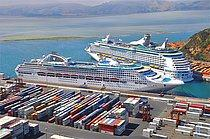Ship: (13, 50, 188, 96), (83, 31, 196, 84)
